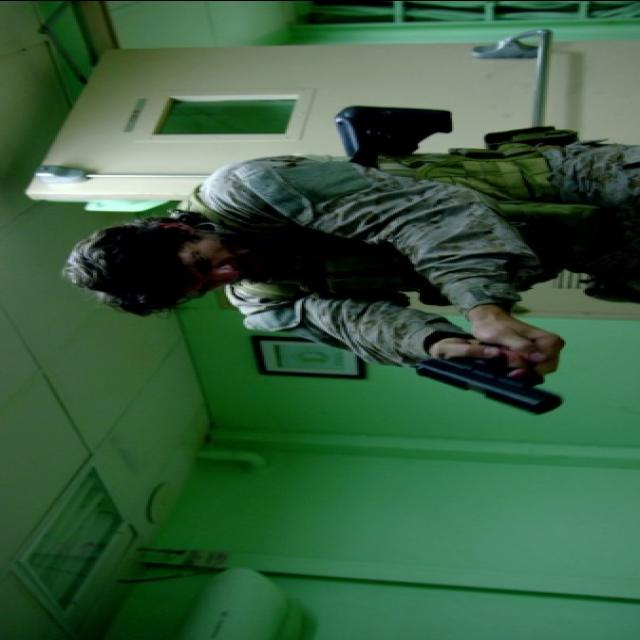weapons: (391, 325, 601, 427)
